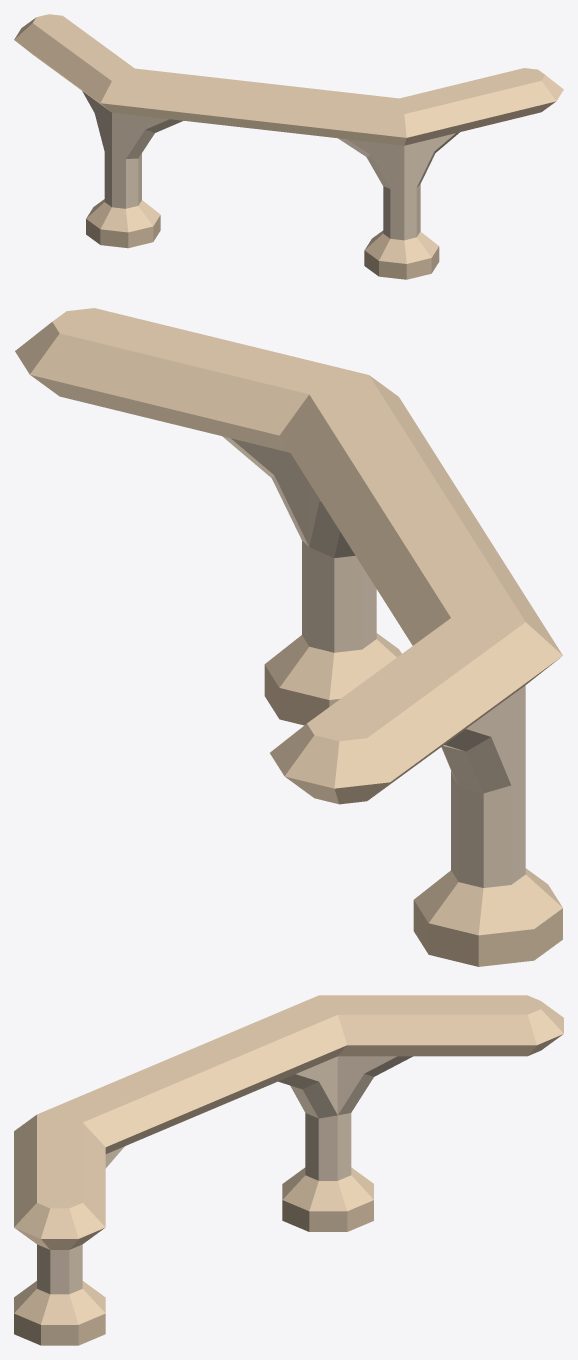
Rendered from opengameart-modular-temple-3d-models-2_7.glb.
The picture shows the model from 3 angles, top to bottom: view 1: azimuth 30°, elevation 25°; view 2: azimuth 150°, elevation 25°; view 3: azimuth 270°, elevation 25°; orthographic projection. The views are drawn at different scales.
Visible parts, largest first — view 1: object1; view 2: object1; view 3: object1.
Boxes of the visible parts, x1,y1,x2,y2 form: object1: (14,14,563,279); object1: (15,308,562,966); object1: (14,995,563,1345).
Bounding box in the file's own units: 1.2 × 0.5 × 1.2.
